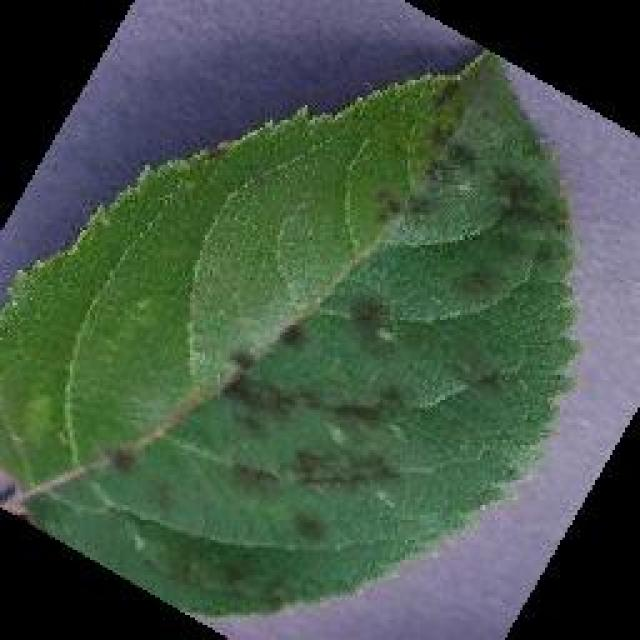apple scab disease: (0, 45, 582, 620)
